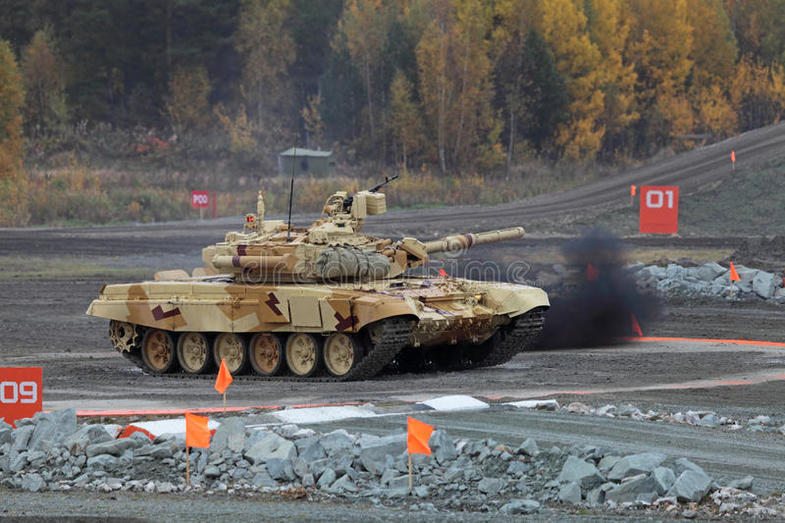t72: (88, 213, 552, 377)
